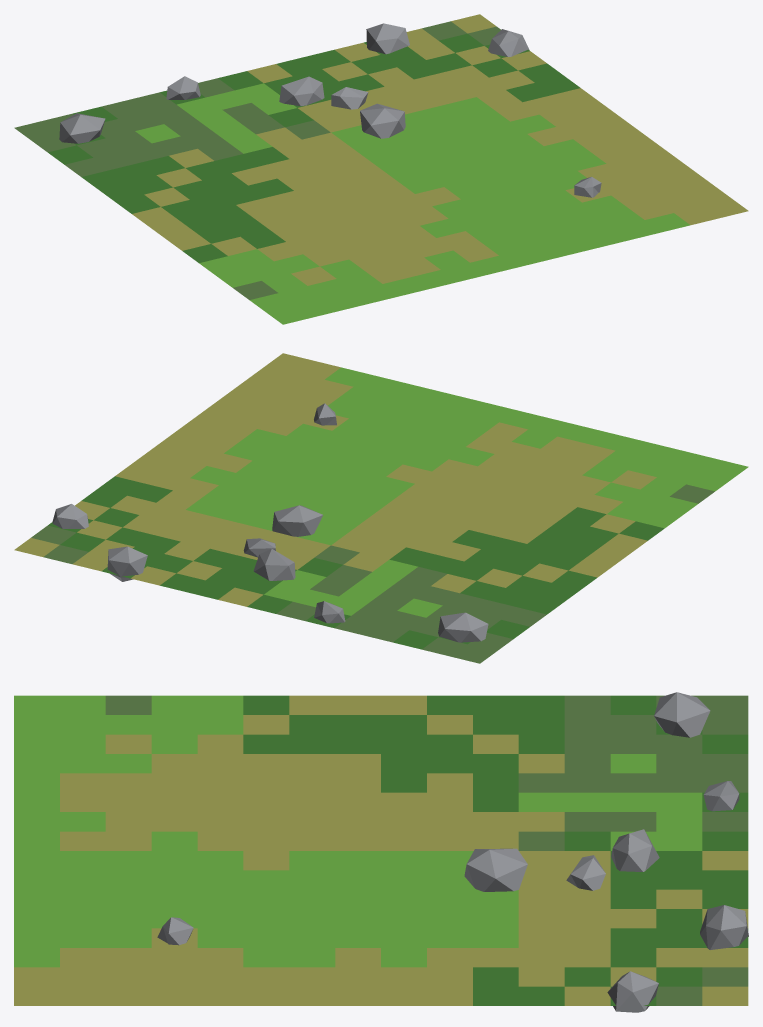
The model's file is chunk_10_3.glb.
The picture shows the model from 3 angles, top to bottom: view 1: azimuth 30°, elevation 25°; view 2: azimuth 150°, elevation 25°; view 3: azimuth 270°, elevation 25°; orthographic projection. The views are drawn at different scales.
Visible parts, largest first — view 1: chunk_10_3; view 2: chunk_10_3; view 3: chunk_10_3.
Boxes of the visible parts, box(x1,y1,x2,y2) form: chunk_10_3: box(14, 14, 748, 324); chunk_10_3: box(14, 353, 748, 663); chunk_10_3: box(14, 692, 748, 1012).
Size of the model in its own units: 16.07 by 1.29 by 16.02.
